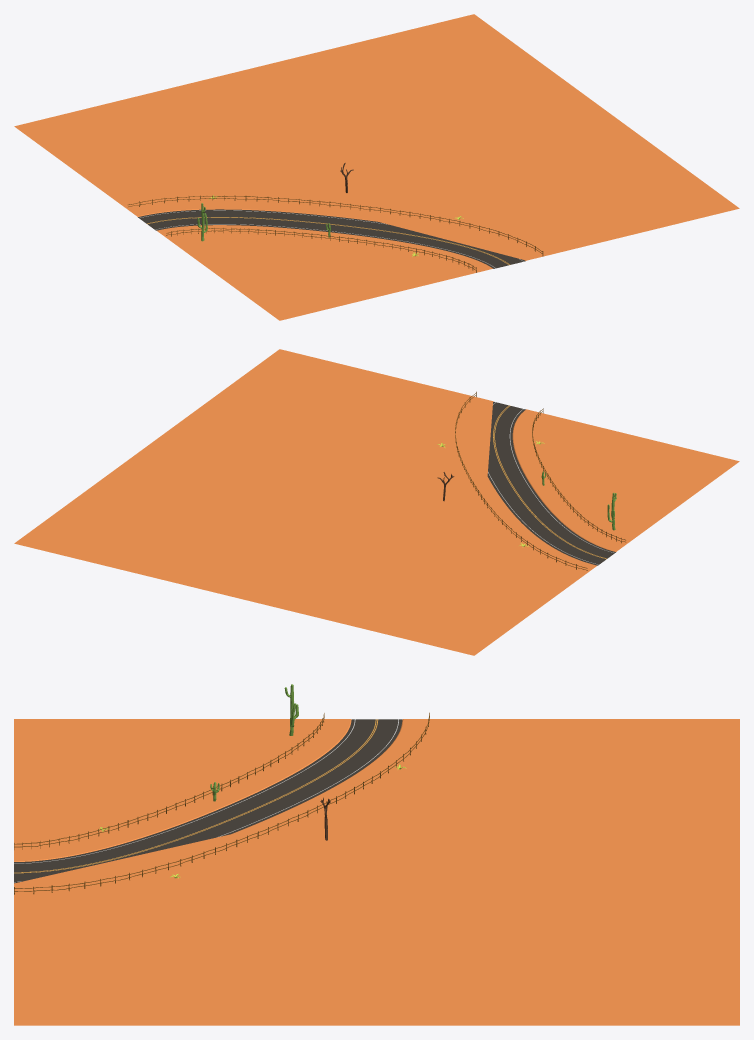
Rendered from DesertRoadRight5.fbx.
3 renders of one model, top to bottom at view 1: azimuth 30°, elevation 25°; view 2: azimuth 150°, elevation 25°; view 3: azimuth 270°, elevation 25°, orthographic. The views are drawn at different scales.
Parts seen in each view (by area): view 1: DRR5Road, DRR5WoodFenceLeft, DRR5WoodFenceRight; view 2: DRR5Road, DRR5WoodFenceLeft; view 3: DRR5Road, DRR5WoodFenceLeft, DRR5WoodFenceRight.
Boxes of the visible parts, x1,y1,x2,y2 form: DRR5Road: [14, 14, 739, 320]; DRR5WoodFenceLeft: [128, 195, 543, 256]; DRR5WoodFenceRight: [166, 228, 476, 272]; DRR5Road: [14, 349, 739, 655]; DRR5WoodFenceLeft: [455, 391, 587, 570]; DRR5Road: [14, 719, 739, 1025]; DRR5WoodFenceLeft: [14, 712, 429, 894]; DRR5WoodFenceRight: [14, 713, 324, 849].
Size of what is drawn, in the model's own units: 20000 by 1580 by 20000.
